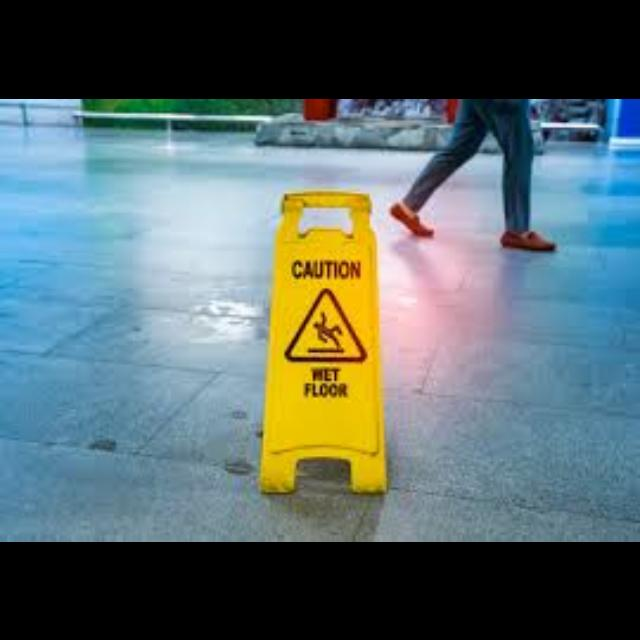tron truot: (258, 188, 384, 489)
